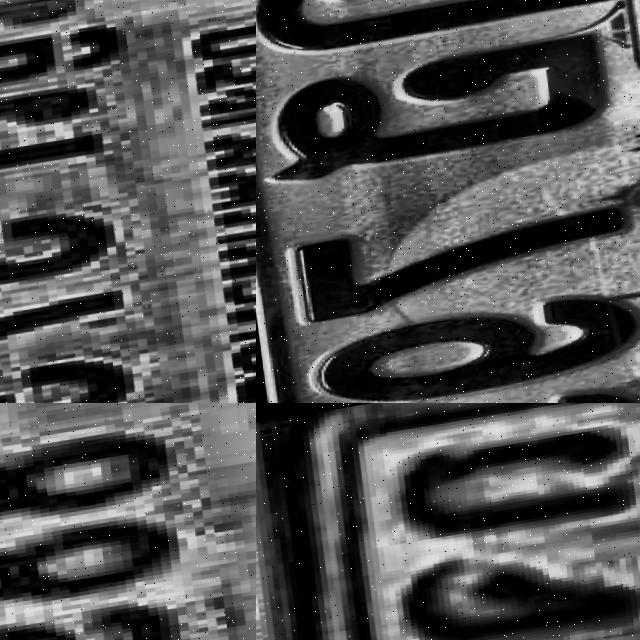license-plate: (256, 0, 640, 403), (0, 0, 256, 403), (280, 403, 640, 640), (0, 403, 256, 640)
